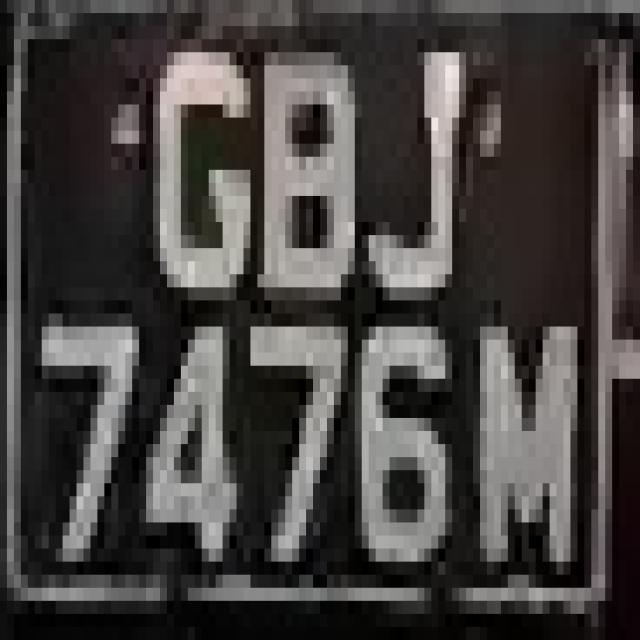4: (132, 261, 258, 588)
6: (348, 300, 466, 575)
7: (243, 248, 348, 614), (21, 274, 139, 588)
B: (257, 13, 369, 340)
G: (146, 13, 264, 314)
J: (348, 26, 480, 327)
M: (473, 274, 598, 601)
